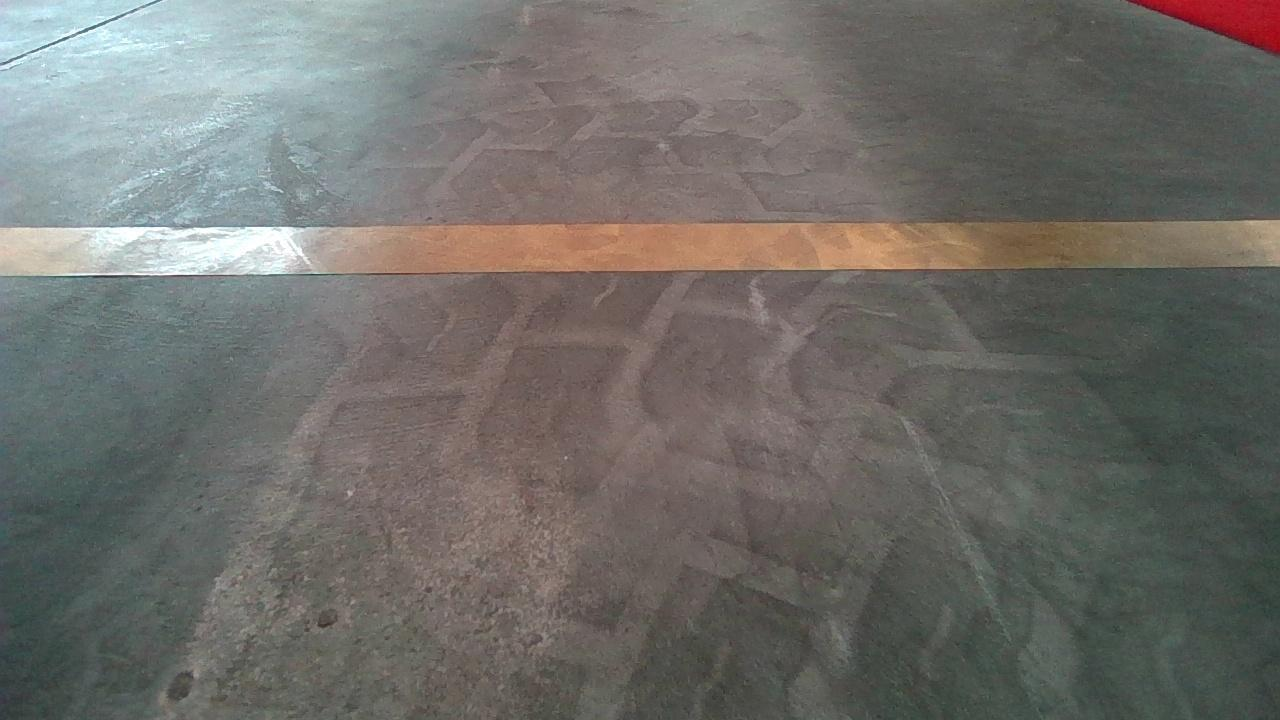yellow_line: (14, 211, 1280, 274)
